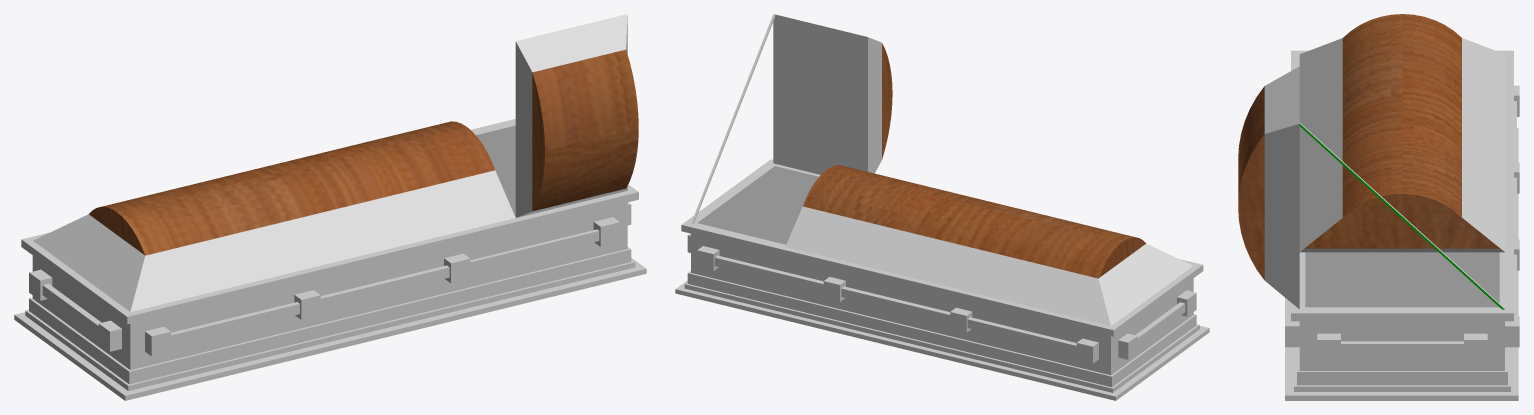
File: ataud.gltf
The picture shows the model from 3 angles, left to right: view 1: azimuth 30°, elevation 25°; view 2: azimuth 150°, elevation 25°; view 3: azimuth 270°, elevation 25°; orthographic projection. The views are drawn at different scales.
Parts seen in each view (by area): view 1: ataud; view 2: ataud; view 3: ataud.
Boxes of the visible parts, box(x1,y1,x2,y2) form: ataud: box(14, 14, 646, 400); ataud: box(675, 14, 1209, 400); ataud: box(1238, 14, 1519, 400).
Bounding box in the file's own units: 2.16 × 1.02 × 0.96.
8 materials, 4 textured.
